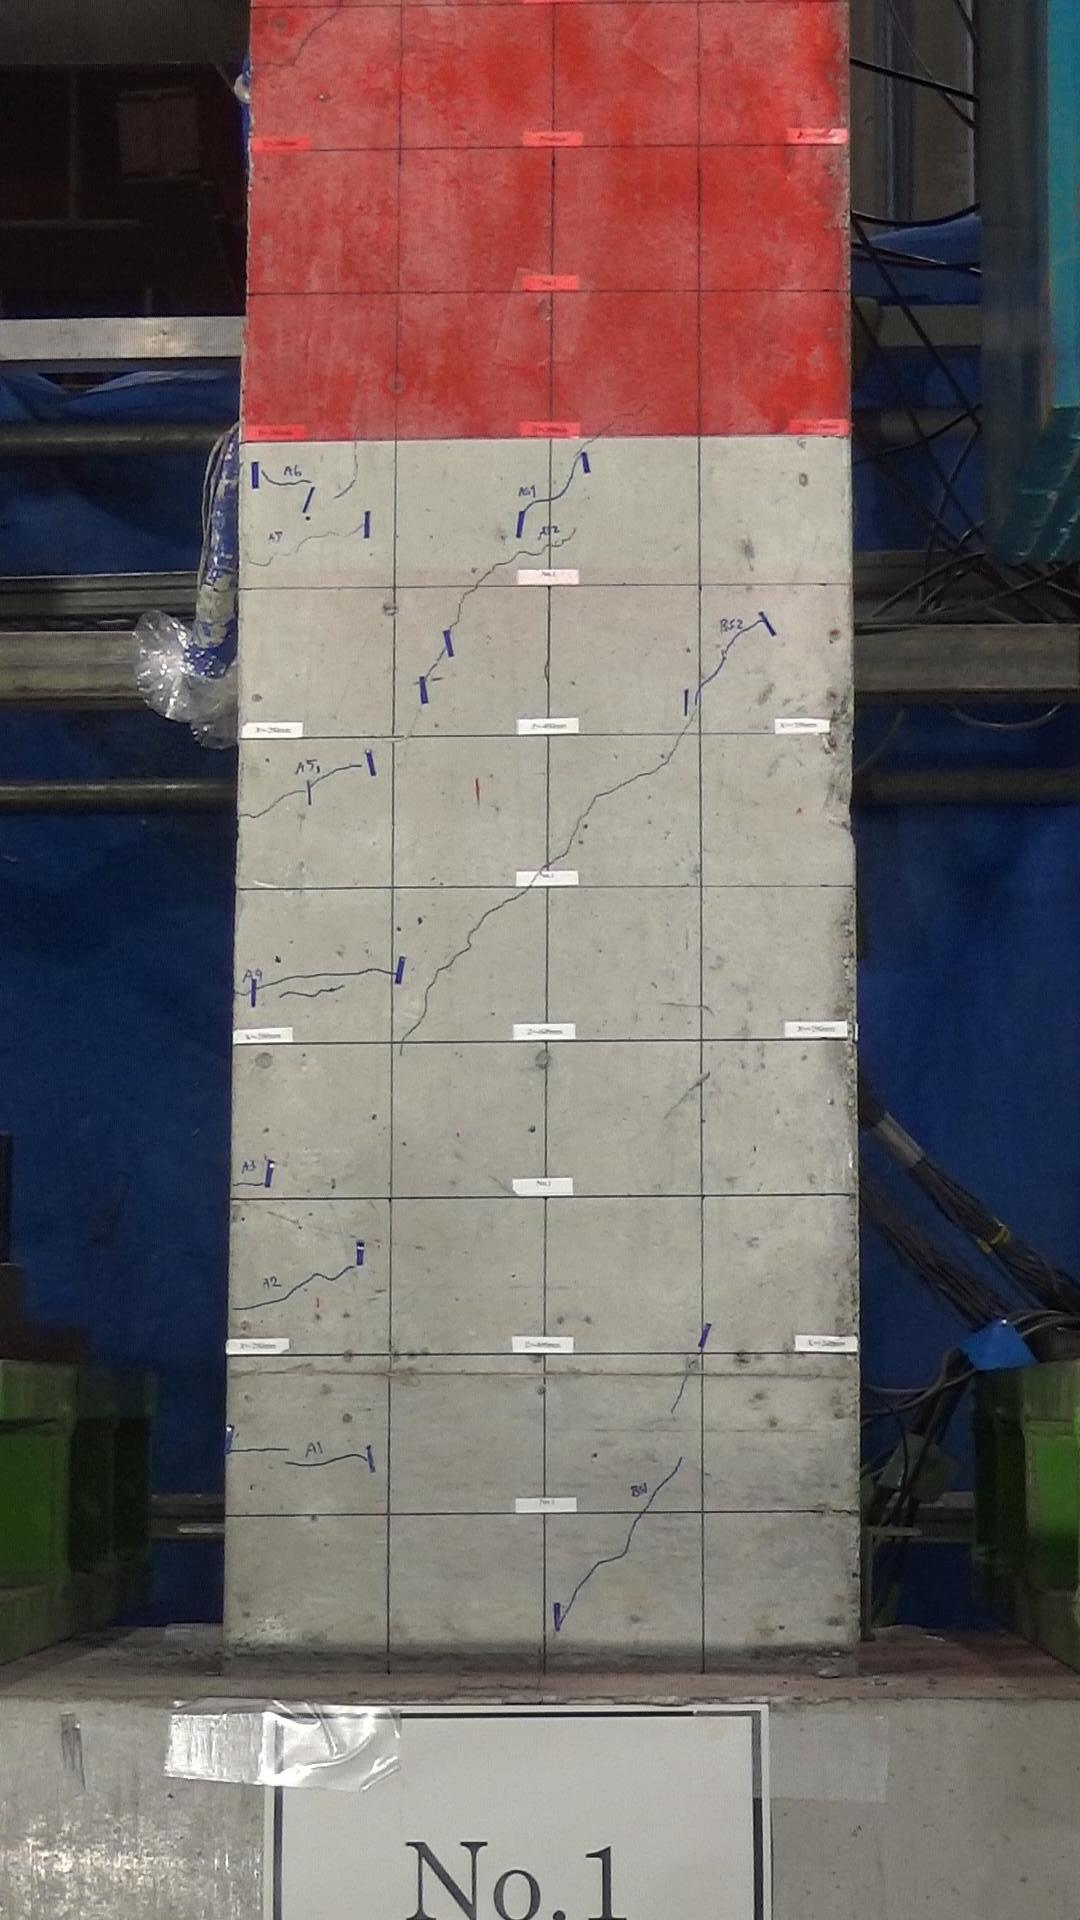Flexure Crack: (294, 1265, 355, 1286), (301, 764, 363, 783), (294, 527, 353, 547), (278, 1455, 331, 1472), (261, 473, 313, 489), (324, 1451, 372, 1468), (239, 802, 278, 822), (227, 1444, 291, 1456), (235, 982, 280, 998), (229, 1299, 282, 1312), (342, 963, 384, 978), (272, 785, 307, 803), (272, 972, 314, 986), (305, 968, 345, 982), (270, 989, 318, 1001), (243, 554, 284, 567), (305, 982, 345, 996), (233, 1176, 266, 1189)
Shear Crack: (398, 1004, 429, 1054), (418, 963, 448, 1009), (618, 764, 667, 791), (615, 1513, 647, 1551), (542, 531, 582, 563), (568, 798, 597, 840), (516, 495, 554, 526), (670, 1364, 694, 1414), (638, 1482, 666, 1524), (729, 618, 764, 651), (444, 934, 475, 971), (468, 905, 506, 934), (674, 704, 702, 742), (332, 469, 364, 502), (709, 644, 735, 684), (504, 543, 538, 571), (473, 558, 506, 585), (659, 1455, 683, 1491), (692, 669, 713, 709), (661, 735, 683, 771), (600, 1545, 630, 1571), (498, 886, 534, 907), (593, 782, 626, 804), (422, 649, 440, 688), (558, 833, 578, 870), (454, 582, 483, 607), (345, 442, 367, 476), (558, 1592, 576, 1630), (578, 1561, 599, 1593), (530, 862, 556, 887), (446, 603, 464, 637), (556, 468, 575, 502), (571, 438, 604, 456), (434, 634, 450, 670)
